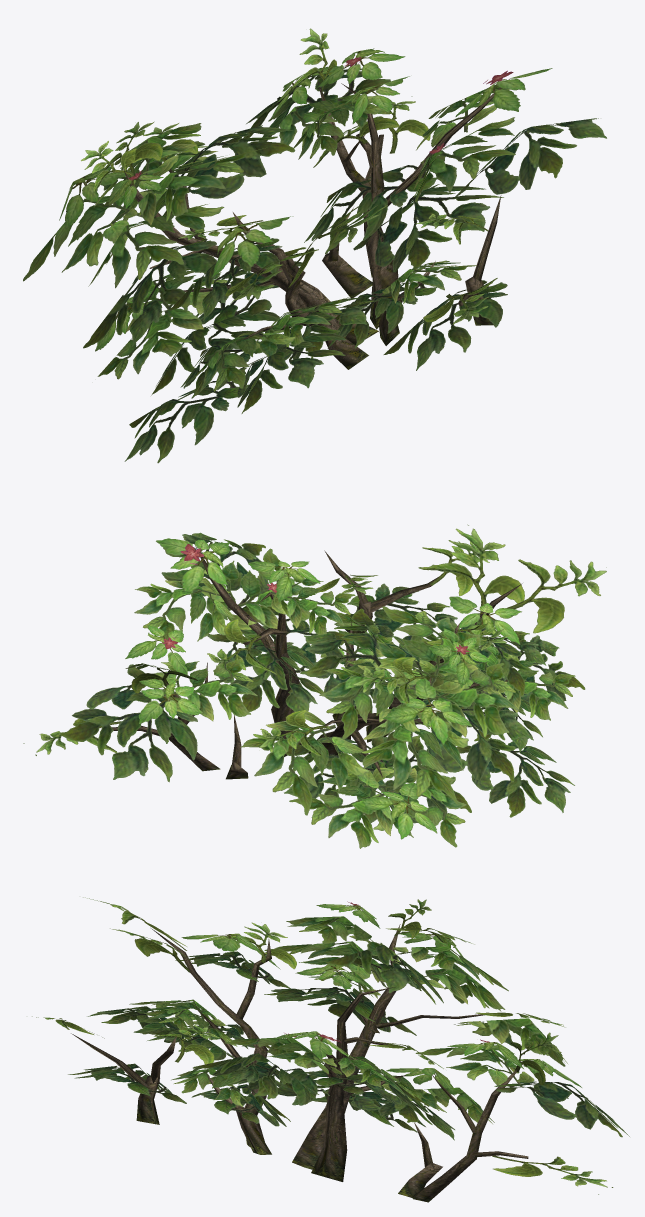
Rendered from S_Tree_Green030_H3.FBX.
The picture shows the model from 3 angles, top to bottom: view 1: azimuth 30°, elevation 25°; view 2: azimuth 150°, elevation 25°; view 3: azimuth 270°, elevation 25°; orthographic projection. The views are drawn at different scales.
Parts seen in each view (by area): view 1: S_Tree_Green030_H3_1; view 2: S_Tree_Green030_H3_1, S_Tree_Green030_H3_2; view 3: S_Tree_Green030_H3_1.
Part boxes in pixels (x1,y1,x2,y2): S_Tree_Green030_H3_1: (23, 28, 606, 463); S_Tree_Green030_H3_1: (23, 524, 606, 848); S_Tree_Green030_H3_2: (162, 544, 468, 654); S_Tree_Green030_H3_1: (32, 897, 629, 1202).
Size of the model in its own units: 439 by 221 by 495.
Materials: 2 (2 with a texture image).
